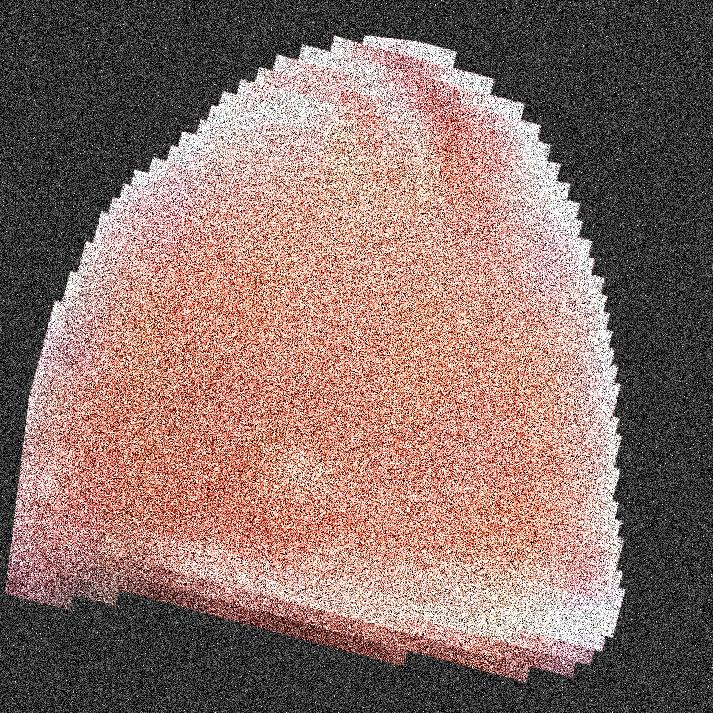Capacete: (101, 0, 560, 712)
